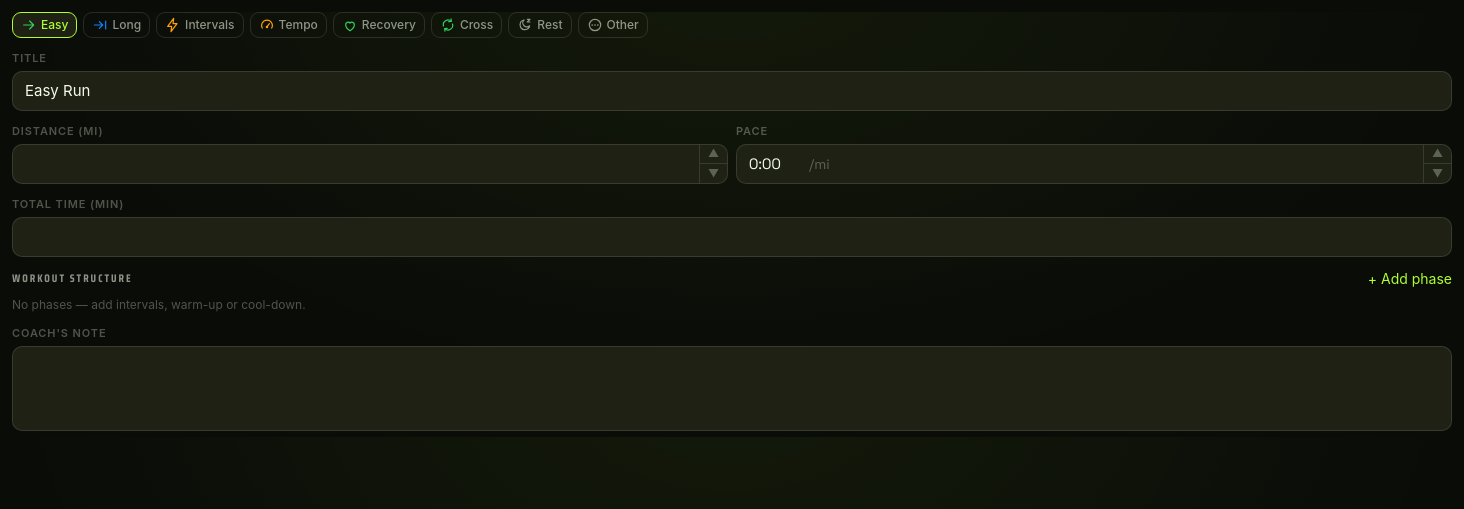
Test case: editing pace + total time derives the distance
This screenshot has width=1464, height=509.
Replace the text in the field named "Pace" with "1000". click: coordinates (777, 164)
box: [749,152,805,175]
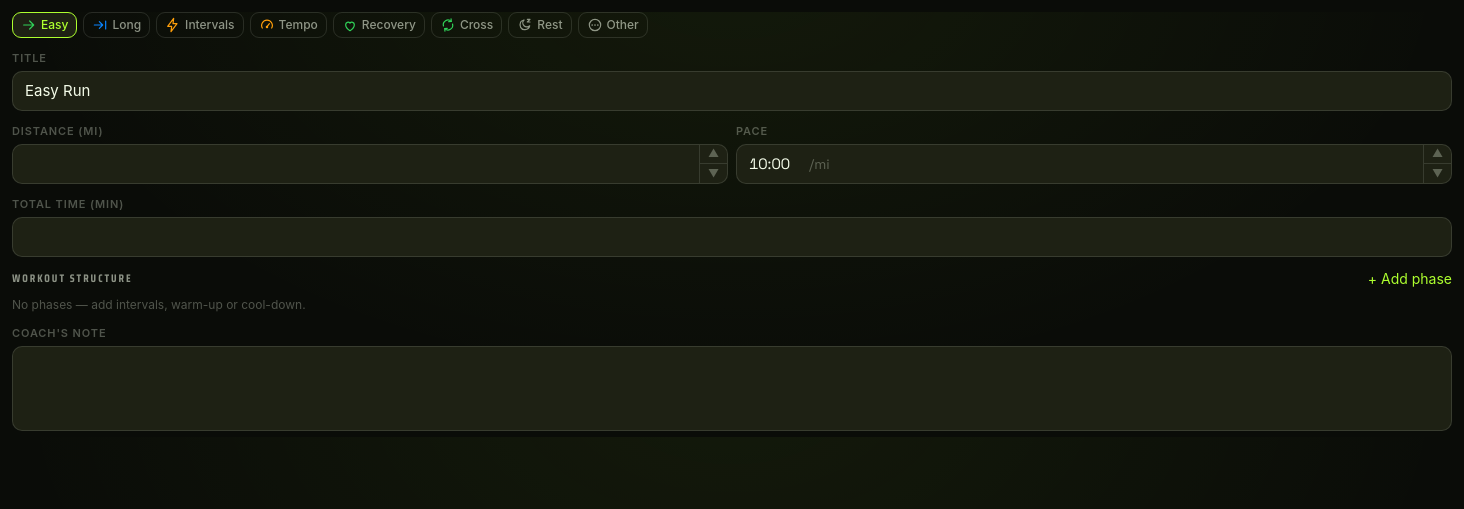
Type "60" into the number field named "Total time". click: coordinates (732, 237)
box: [12,216,1452,257]
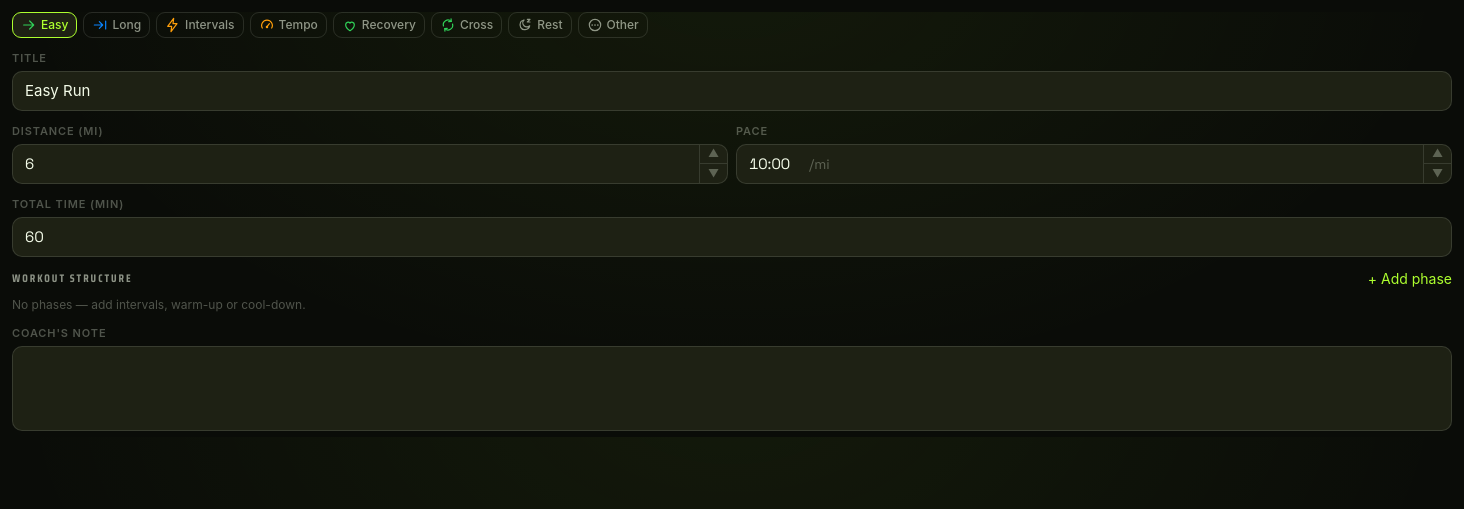
Expected: the field named "Distance" holds "6", [25,152,687,175]
